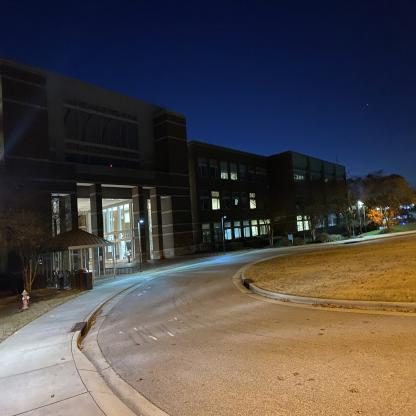eb2: (4, 58, 406, 276)
